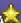star: (0, 1, 21, 23)
